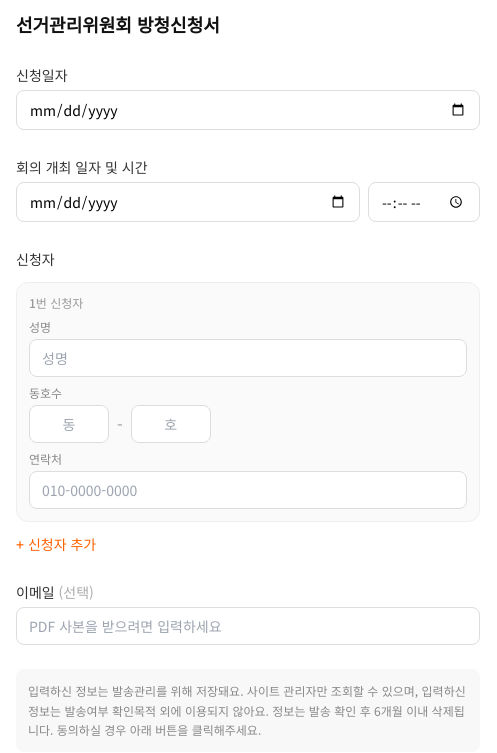
Test: PetitionForm › 전화번호 입력 시 자동으로 하이픈이 추가된다
Type "01012345678" into the field with placeholder "010-0000-0000" at (248, 490), box top-left (29, 471), bottom-right (467, 509)
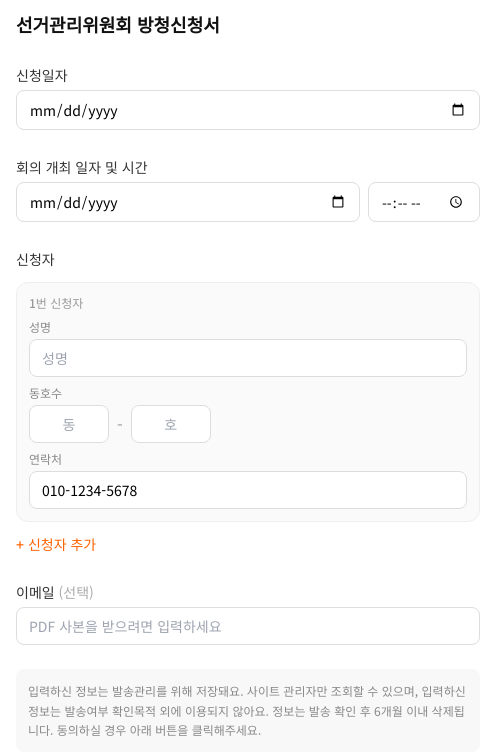
Result: the field with placeholder "010-0000-0000" holds "010-1234-5678" at top-left (29, 471), bottom-right (467, 509)
